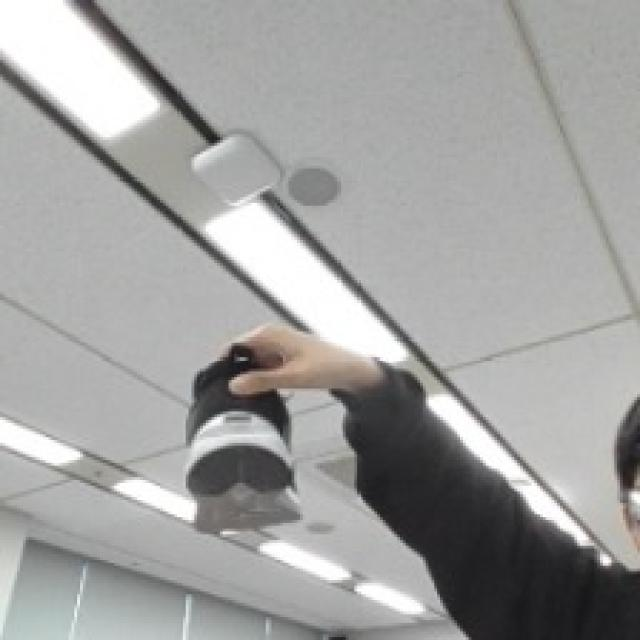shoes: (140, 309, 333, 572)
